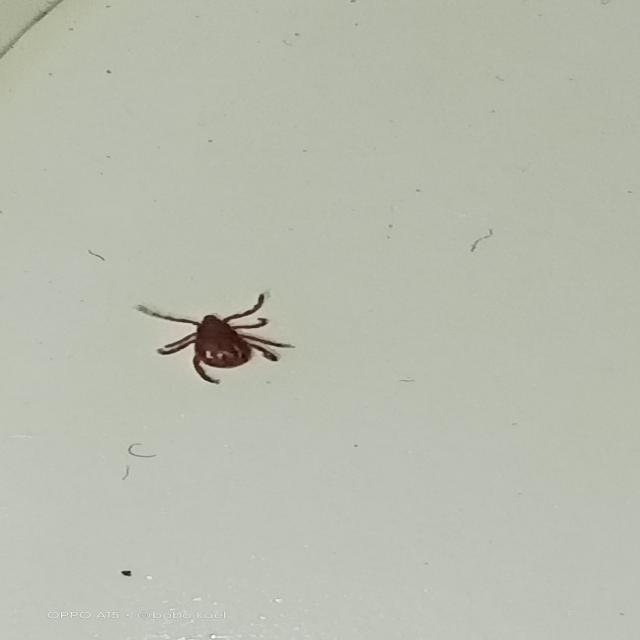Rhipicephalus Sanguineus-M: (137, 294, 296, 387)
